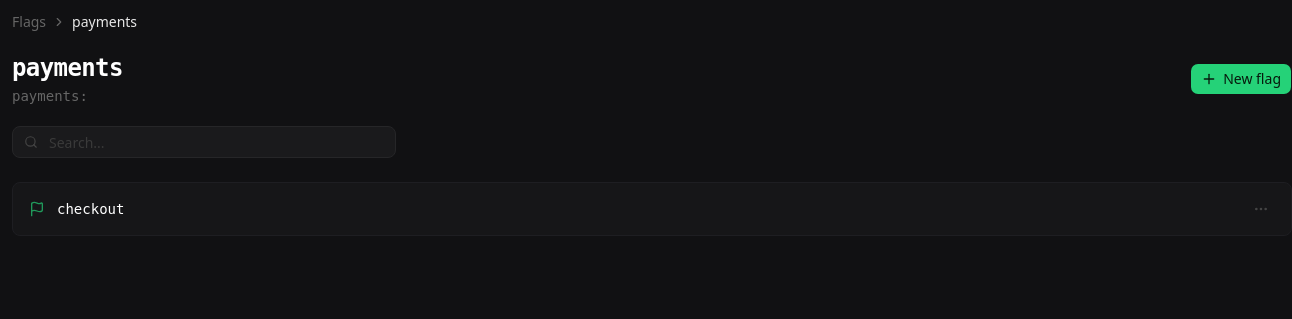
Test case: flags page search › keeps the search in the URL and clears back out of the empty state
Type "zzz" into the field named "Search flags and folders" at (204,142), box [12,126,396,158]
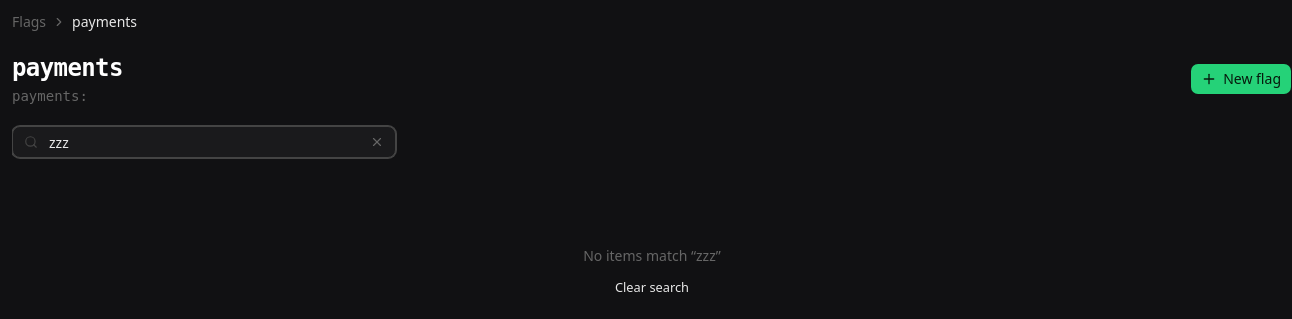
expect the text "No items match “zzz”" is shown: met, box [583,246,721,266]
Click the button "Clear search" at (652,288), box [604,274,700,302]
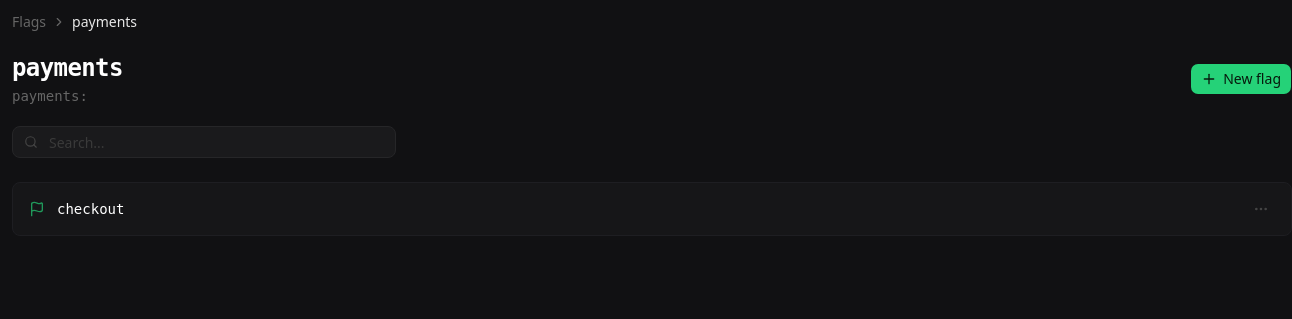
expect the field named "Search flags and folders" is empty: met, box [12,126,396,158]
